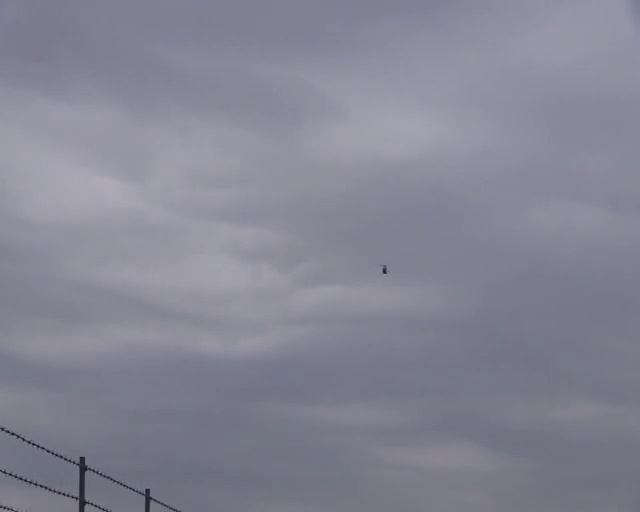HELICOPTER: (378, 263, 388, 275)
